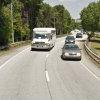Car: (60, 30, 81, 66)
